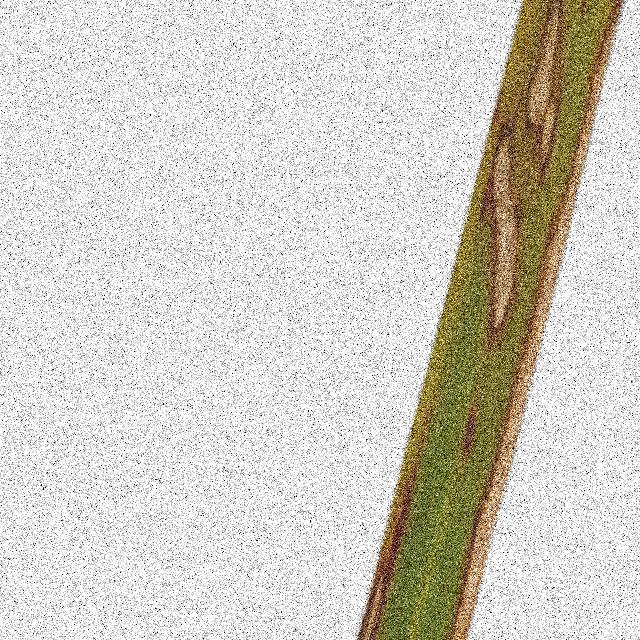LEAF BLAST: (446, 0, 623, 640), (359, 390, 438, 640), (478, 103, 522, 351), (524, 0, 566, 186), (462, 405, 475, 461), (583, 0, 586, 7)
